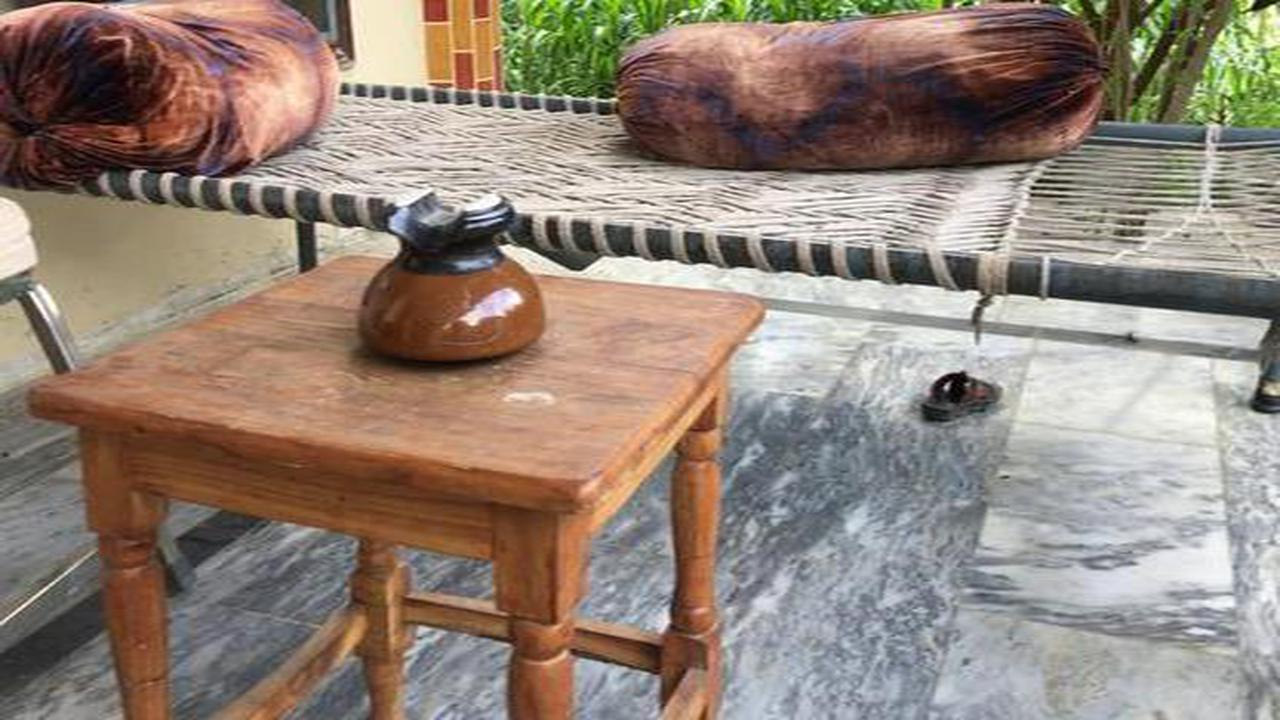insulator_pin: (345, 177, 557, 376)
